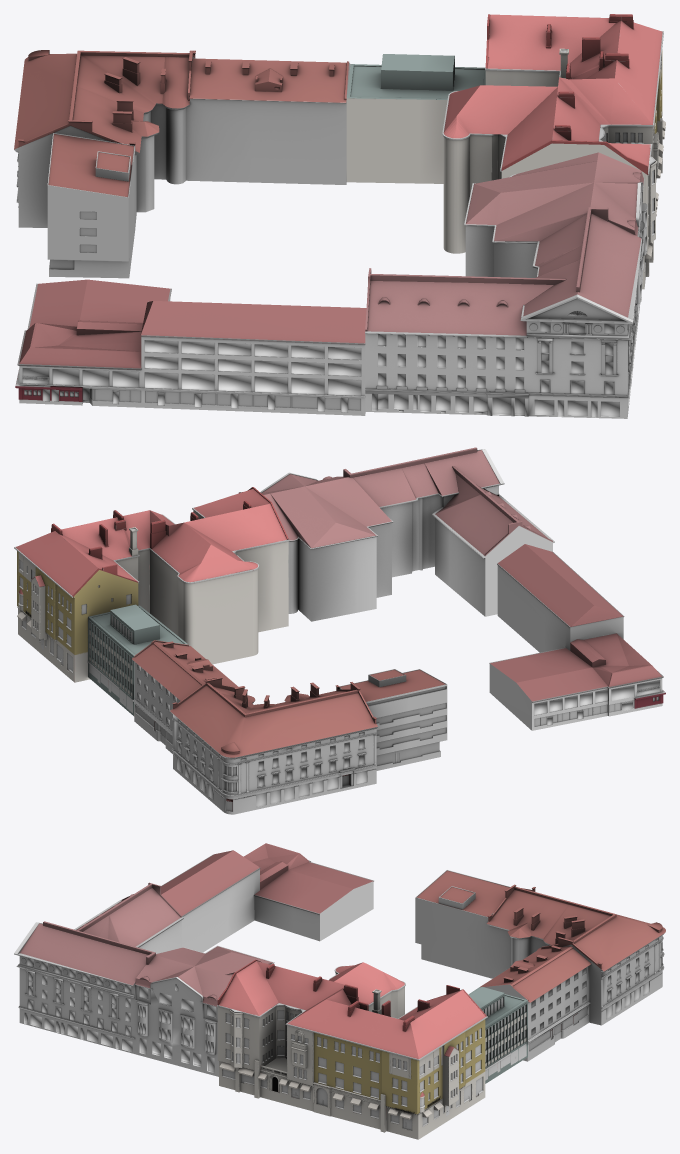
The picture shows the model from 3 angles, top to bottom: view 1: azimuth 30°, elevation 25°; view 2: azimuth 150°, elevation 25°; view 3: azimuth 270°, elevation 25°; orthographic projection. The views are drawn at different scales.
Parts seen in each view (by area): view 1: Kauppurienkatu11, pakkahuoneenkatu_10, pakkahuoneenkatu_12, kauppurienkatu9; view 2: pakkahuoneenkatu_12, pakkahuoneenkatu_10, Kauppurienkatu11, kauppurienkatu9; view 3: pakkahuoneenkatu_12, Kauppurienkatu11, pakkahuoneenkatu_10, kauppurienkatu9.
Part boxes in pixels (<box>): Kauppurienkatu11: <box>365,152,647,418</box>; pakkahuoneenkatu_10: <box>14,50,350,278</box>; pakkahuoneenkatu_12: <box>346,14,665,289</box>; kauppurienkatu9: <box>15,279,366,415</box>; pakkahuoneenkatu_12: <box>14,487,288,716</box>; pakkahuoneenkatu_10: <box>132,640,447,814</box>; Kauppurienkatu11: <box>260,447,554,621</box>; kauppurienkatu9: <box>489,544,665,730</box>; pakkahuoneenkatu_12: <box>217,959,527,1139</box>; Kauppurienkatu11: <box>14,882,274,1076</box>; pakkahuoneenkatu_10: <box>415,870,665,1061</box>; kauppurienkatu9: <box>161,843,373,952</box>.
Bounding box in the file's own units: 13103 × 2509 × 13777.
